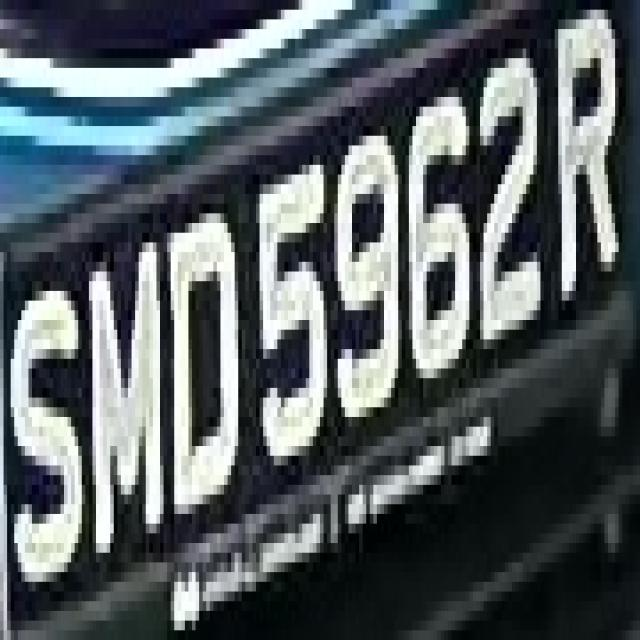2: (469, 48, 555, 359)
5: (249, 126, 334, 466)
6: (402, 58, 473, 378)
9: (327, 107, 405, 446)
D: (157, 175, 246, 543)
M: (89, 213, 171, 562)
R: (544, 0, 636, 301)
S: (7, 252, 89, 592)
